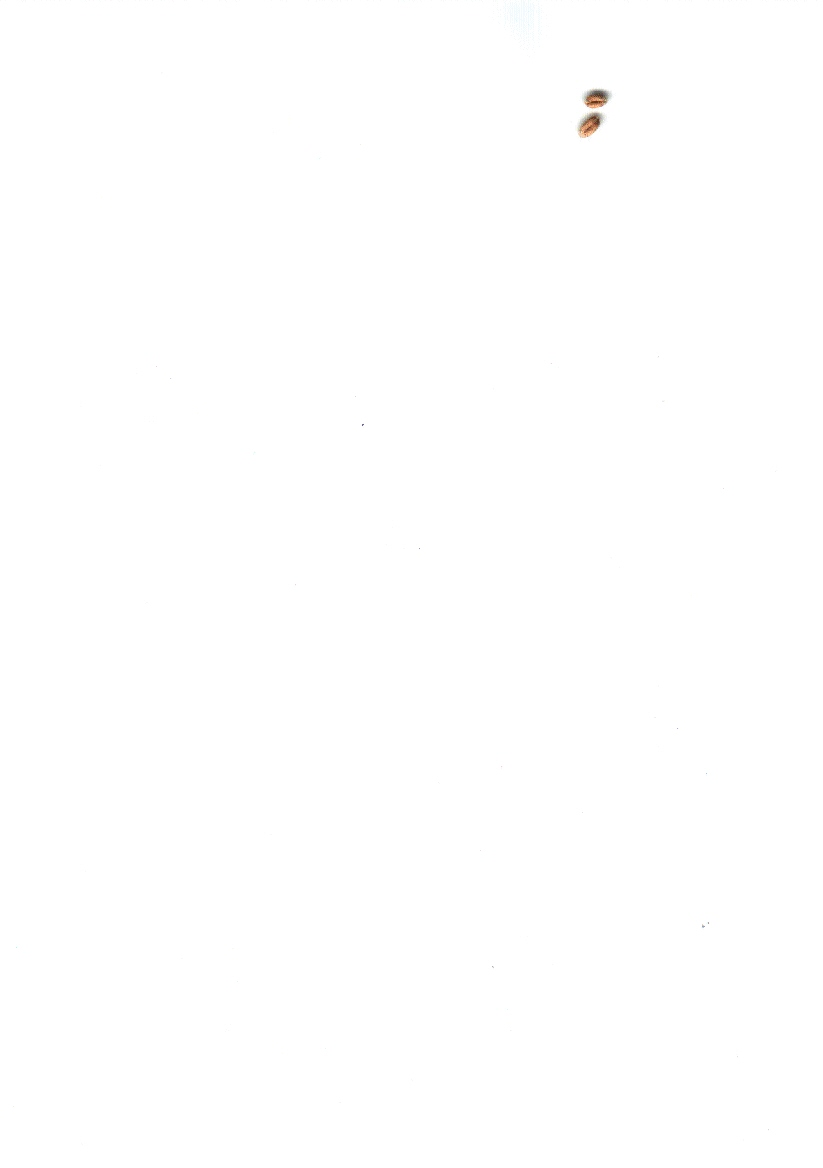grains: (571, 111, 610, 143), (575, 85, 614, 111)
